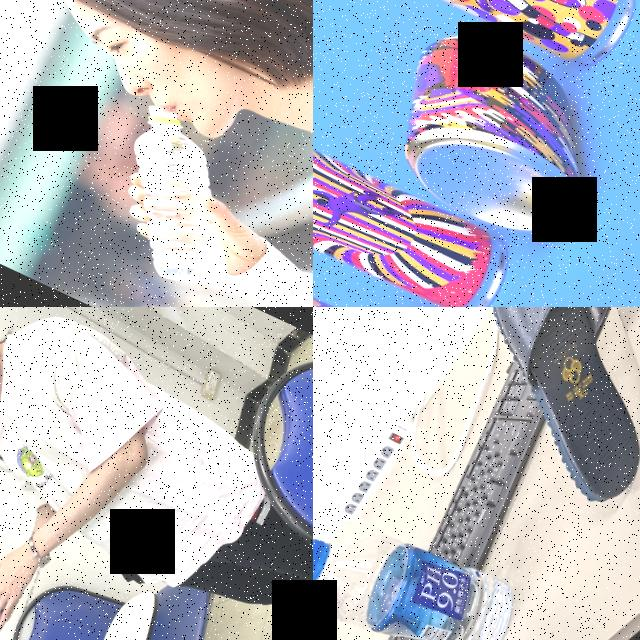bottle: (82, 93, 284, 300), (313, 494, 527, 640)
can: (368, 10, 634, 258), (313, 108, 522, 307), (314, 0, 640, 75)
cup: (0, 555, 19, 633)
